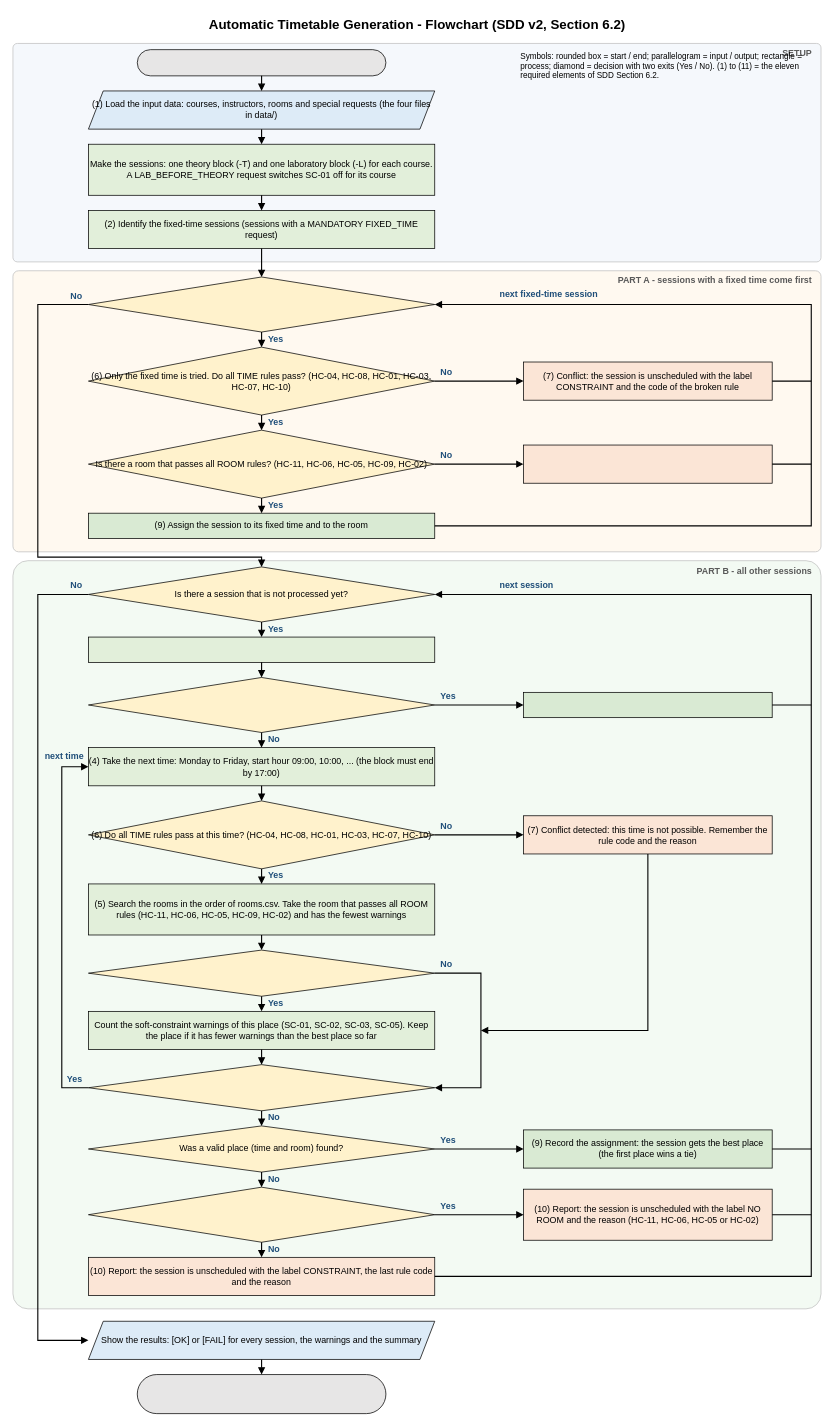
Image size: 834x1427. Some labels were removed from this diagram. Here are the shapes that lost their labels. From the top down, the centre of each, then its label:
the point at 261,62: START: generate the timetable
the point at 261,304: Is there a fixed-time session that is not processed yet?
the point at 647,463: The session is unscheduled with the label NO ROOM and the reason
the point at 261,649: (3) Select the next unscheduled session
the point at 261,705: Has it a PREFERRED time that passes all rules and has a free room?
the point at 647,705: Assign the session to the preferred time and room
the point at 261,972: Was a suitable room found?
the point at 261,1087: (8) Is there another time to try?
the point at 261,1214: Did at least one time pass the TIME rules?
the point at 261,1394: (11) END: the timetable generation is complete (a placed session is never moved)
